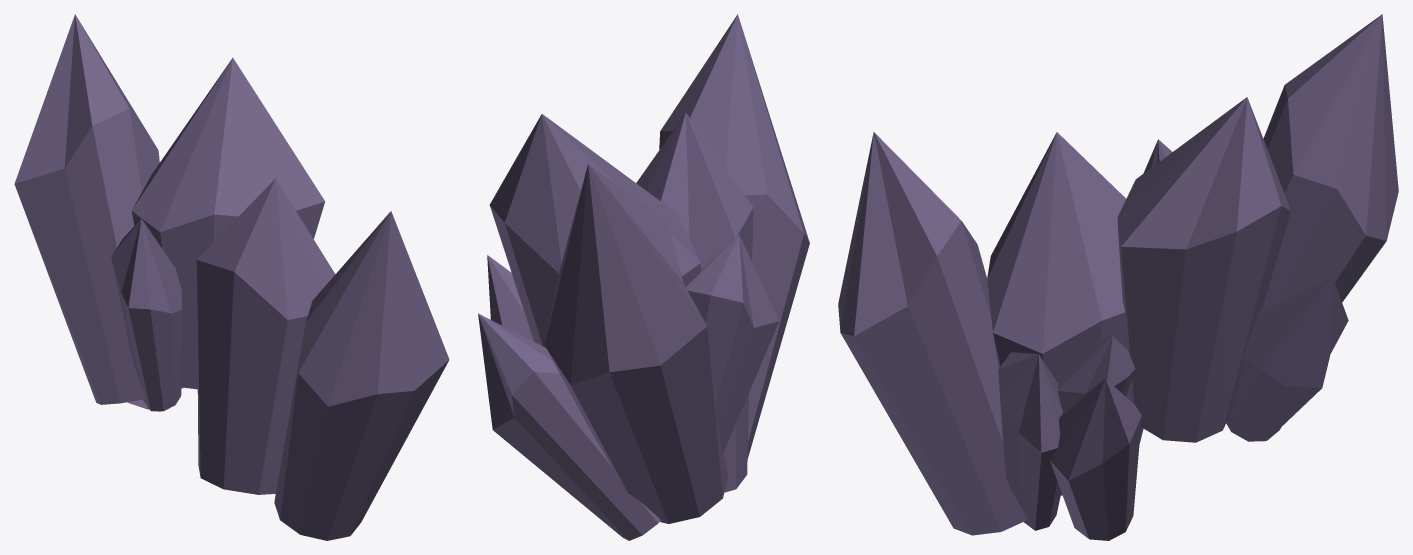
The model's file is SM_Rock_cristalls.fbx.
3 renders of one model, left to right at view 1: azimuth 30°, elevation 25°; view 2: azimuth 150°, elevation 25°; view 3: azimuth 270°, elevation 25°, orthographic. The views are drawn at different scales.
Visible parts, largest first — view 1: SM_Crystalls; view 2: SM_Crystalls; view 3: SM_Crystalls.
Boxes of the visible parts, bbox=[...] form: SM_Crystalls: bbox=[14, 14, 449, 540]; SM_Crystalls: bbox=[478, 14, 809, 540]; SM_Crystalls: bbox=[838, 14, 1398, 540].
Bounding box in the file's own units: 43.99 × 59.58 × 64.55.
1 material, 1 textured.
